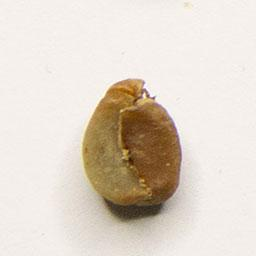defect: (73, 71, 189, 215)
